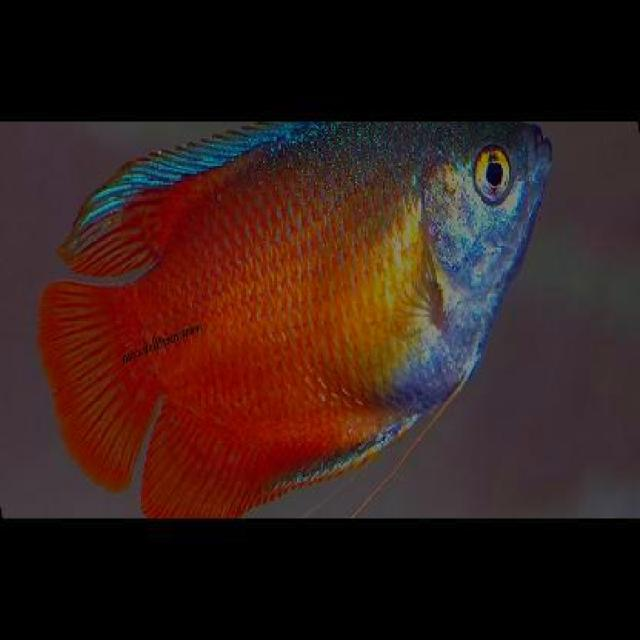Gourami: (37, 120, 554, 517)
